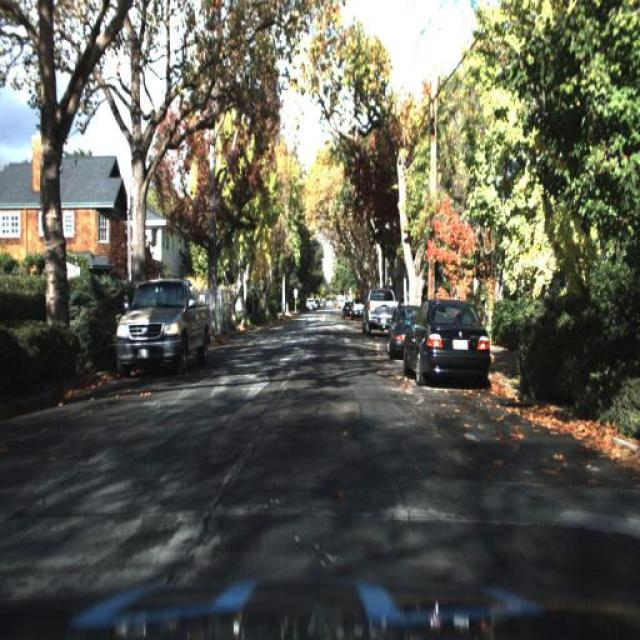car: (118, 281, 207, 388), (404, 293, 488, 383), (358, 280, 399, 340), (386, 300, 406, 364), (364, 286, 388, 336), (342, 305, 353, 326)
